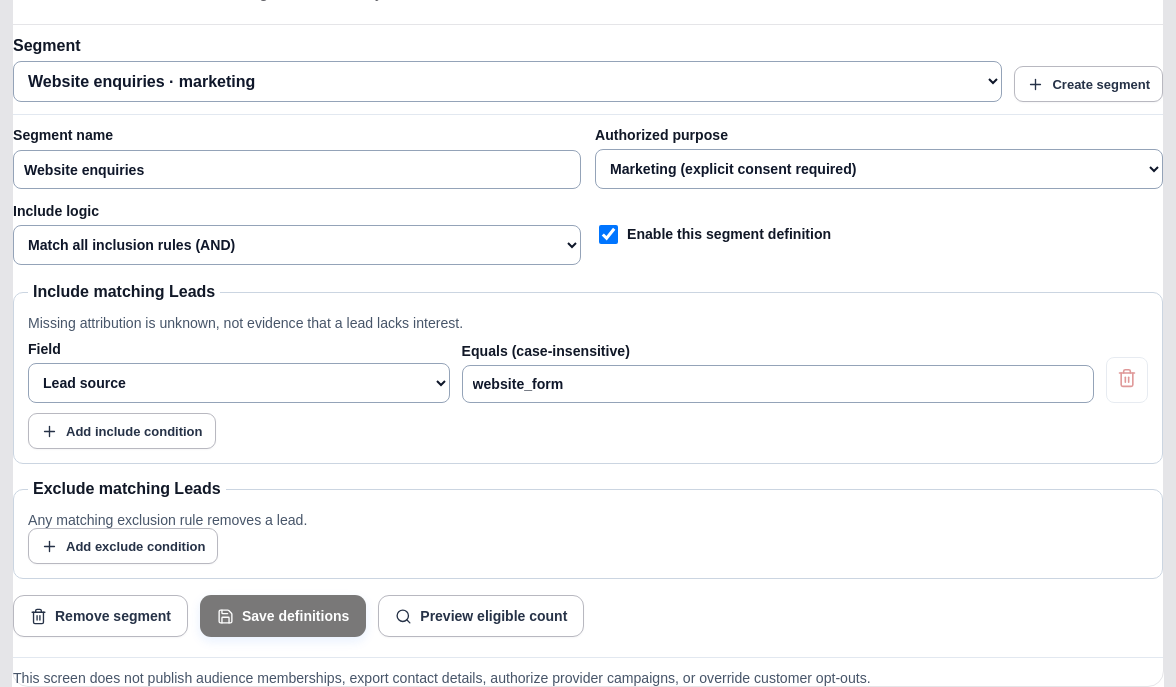
Scenario: CRM segment editor › previews marketing audiences with eligibility exclusions and truncation warnings
(page scrolled)
expect the dropdown labelled "Authorized purpose" shows "Marketing (explicit consent required)": met, box [595,149,1163,189]
Click the button "Preview eligible count" at (481, 616), box [378,595,584,637]
(page scrolled)
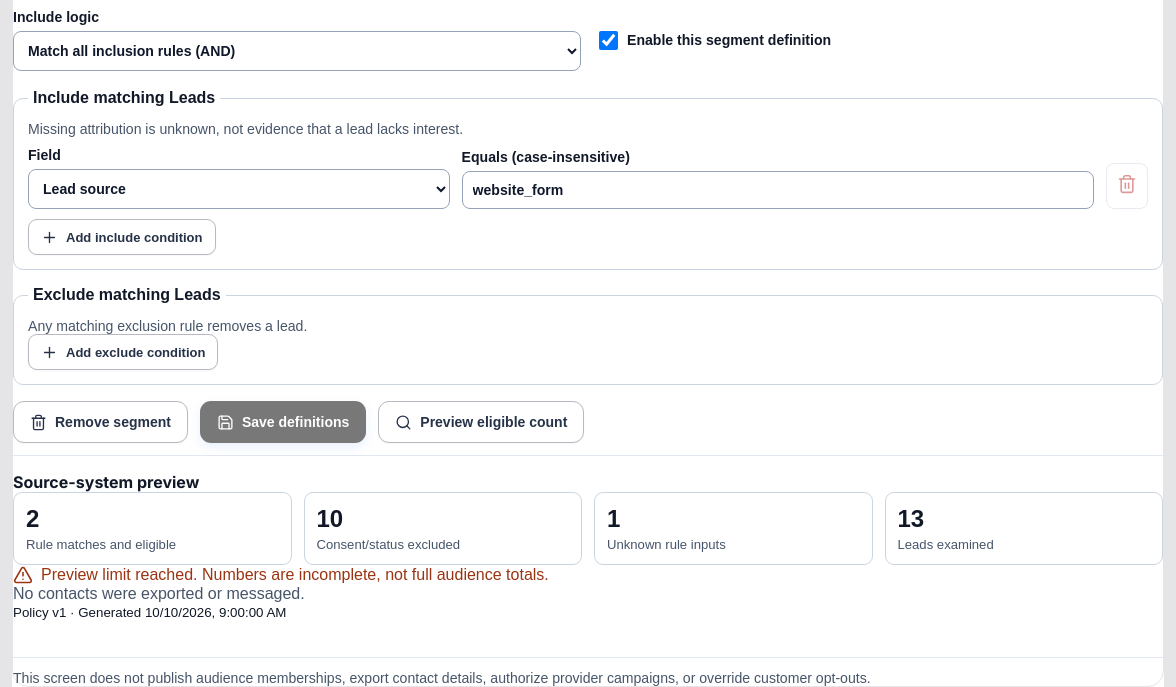
expect the element named "Segment population preview" shows "Rule matches and eligible": met, box [26,537,176,552]
expect the element named "Segment population preview" shows "Consent/status excluded": met, box [316,537,460,552]
expect the element named "Segment population preview" shows "Unknown rule inputs": met, box [607,537,726,552]
